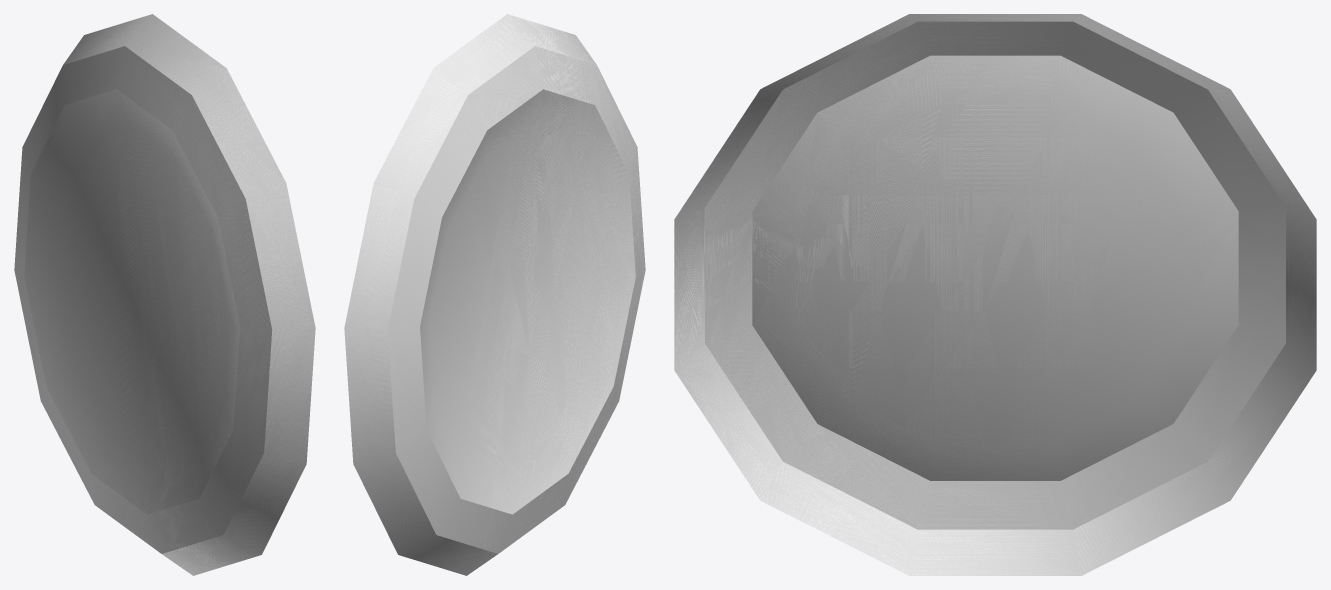
File: original-56.obj
The picture shows the model from 3 angles, left to right: view 1: azimuth 30°, elevation 25°; view 2: azimuth 150°, elevation 25°; view 3: azimuth 270°, elevation 25°; orthographic projection. The views are drawn at different scales.
Parts seen in each view (by area): view 1: Group22/mesh21/mesh21-geometry#mesh21-geometry; view 2: Group22/mesh21/mesh21-geometry#mesh21-geometry; view 3: Group22/mesh21/mesh21-geometry#mesh21-geometry.
Part boxes in pixels (left/top/right/bottom): Group22/mesh21/mesh21-geometry#mesh21-geometry: left=14, top=14, right=315, bottom=575; Group22/mesh21/mesh21-geometry#mesh21-geometry: left=344, top=14, right=645, bottom=575; Group22/mesh21/mesh21-geometry#mesh21-geometry: left=674, top=14, right=1316, bottom=575.
Bounding box in the file's own units: 0.00697 × 0.0474 × 0.0475.
2 materials, 1 textured.
